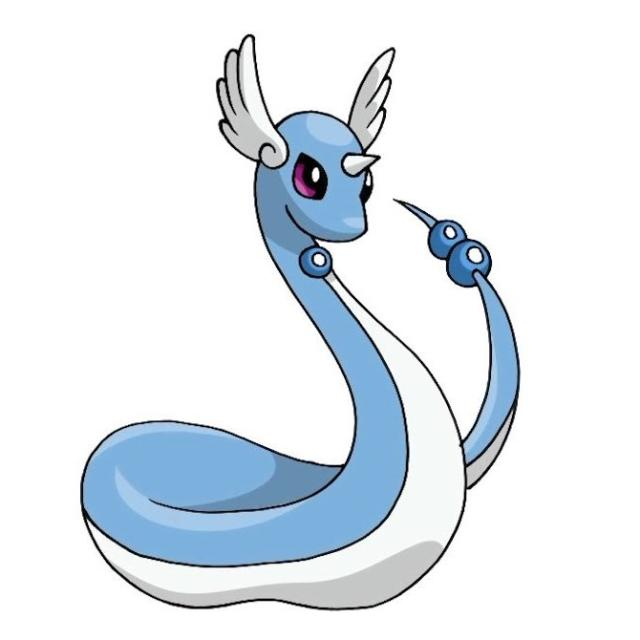Dragonair: (81, 40, 494, 607)
